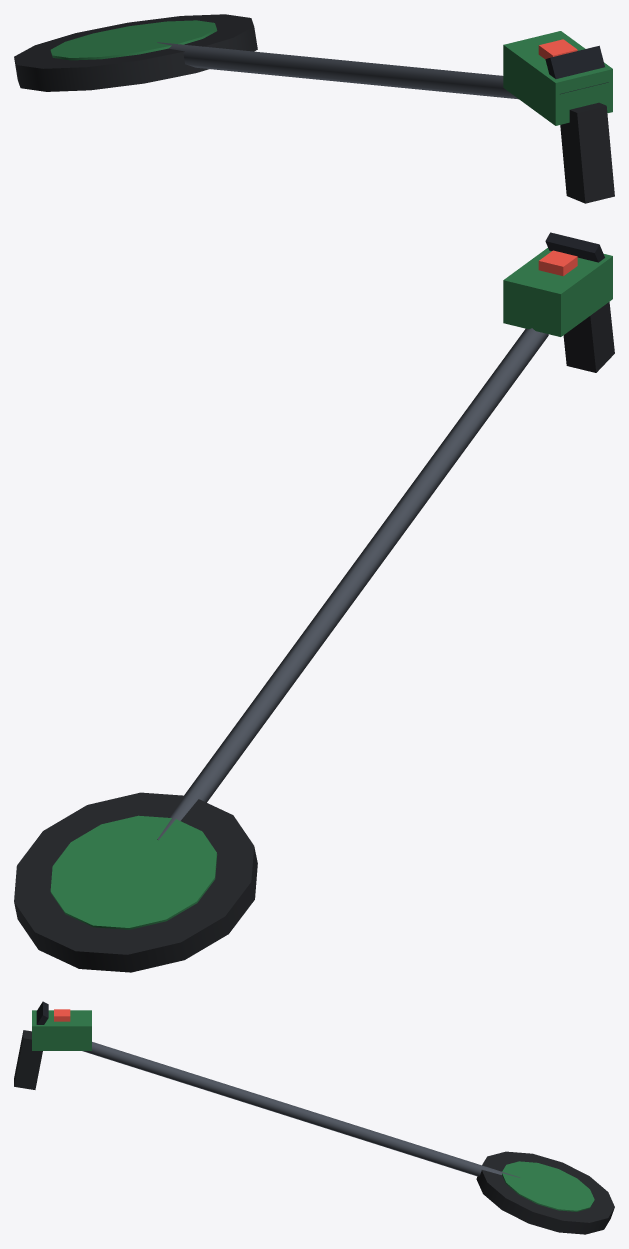
File: tool_detector.glb
3 renders of one model, top to bottom at view 1: azimuth 30°, elevation 25°; view 2: azimuth 150°, elevation 25°; view 3: azimuth 270°, elevation 25°, orthographic. The views are drawn at different scales.
Parts seen in each view (by area): view 1: _MeshInstance3D_1254, _MeshInstance3D_1252, _MeshInstance3D_1249, _MeshInstance3D_1248, _MeshInstance3D_1255, _MeshInstance3D_1251, Glow; view 2: _MeshInstance3D_1254, _MeshInstance3D_1255, _MeshInstance3D_1252, _MeshInstance3D_1249, _MeshInstance3D_1248, _MeshInstance3D_1251; view 3: _MeshInstance3D_1252, _MeshInstance3D_1254, _MeshInstance3D_1255, _MeshInstance3D_1249, _MeshInstance3D_1248.
Boxes of the visible parts, left/top/right/bottom form: _MeshInstance3D_1254: left=14, top=14, right=257, bottom=91; _MeshInstance3D_1252: left=157, top=42, right=518, bottom=99; _MeshInstance3D_1249: left=503, top=31, right=612, bottom=125; _MeshInstance3D_1248: left=560, top=102, right=614, bottom=203; _MeshInstance3D_1255: left=50, top=20, right=217, bottom=60; _MeshInstance3D_1251: left=545, top=45, right=608, bottom=94; Glow: left=538, top=39, right=577, bottom=59; _MeshInstance3D_1254: left=14, top=792, right=257, bottom=972; _MeshInstance3D_1255: left=50, top=815, right=217, bottom=929; _MeshInstance3D_1252: left=157, top=328, right=548, bottom=839; _MeshInstance3D_1249: left=503, top=248, right=612, bottom=336; _MeshInstance3D_1248: left=563, top=302, right=614, bottom=372; _MeshInstance3D_1251: left=545, top=232, right=604, bottom=262; _MeshInstance3D_1252: left=82, top=1042, right=520, bottom=1177; _MeshInstance3D_1254: left=476, top=1151, right=614, bottom=1234; _MeshInstance3D_1255: left=502, top=1161, right=594, bottom=1211; _MeshInstance3D_1249: left=32, top=1010, right=91, bottom=1050; _MeshInstance3D_1248: left=14, top=1030, right=42, bottom=1089.
Bounding box in the file's own units: 0.2535 × 0.4274 × 1.11.
